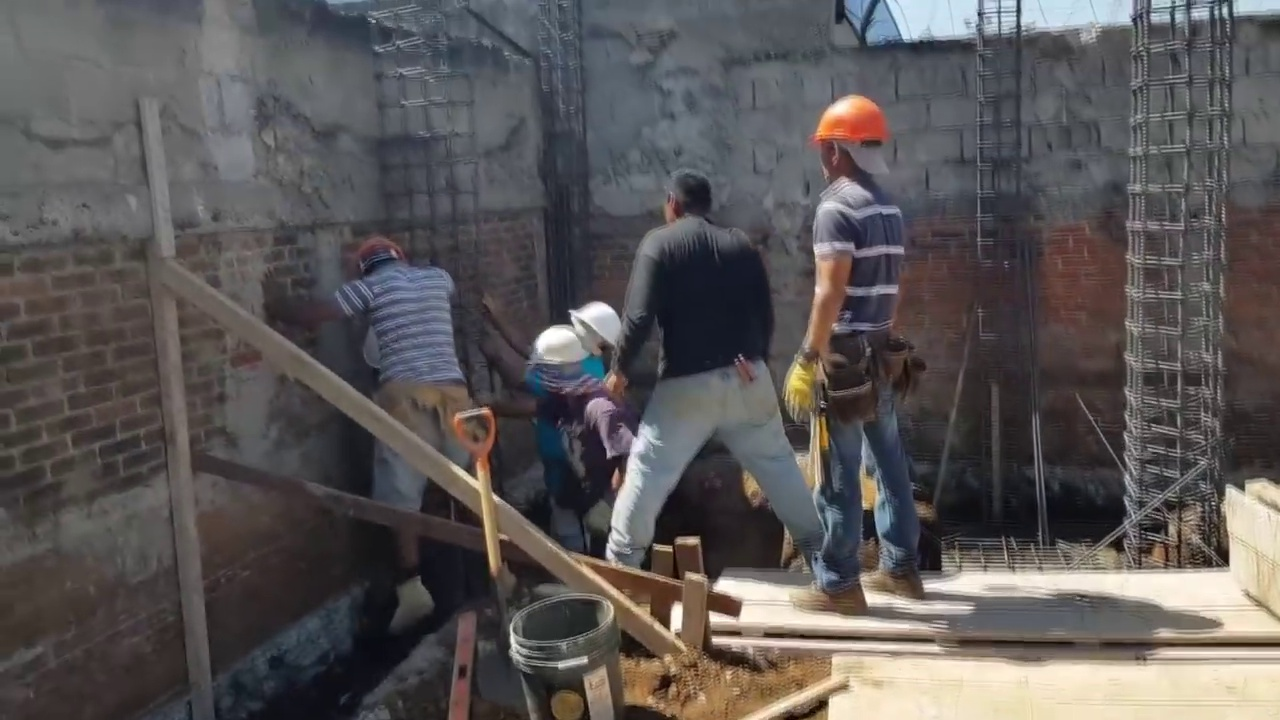helmet: (808, 91, 900, 150), (524, 329, 581, 372), (348, 236, 408, 271), (575, 307, 616, 358)
helmet-off: (662, 171, 719, 228)
helmet-on: (808, 95, 900, 189), (348, 236, 408, 278)
person: (608, 172, 823, 609), (323, 230, 510, 627), (788, 92, 915, 601), (468, 299, 620, 556)
